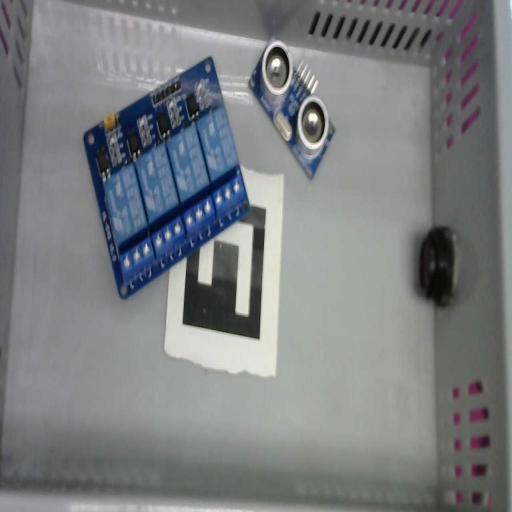QR: (163, 166, 284, 378)
relay_module: (82, 55, 250, 301)
ultrasonic_hc-sr04: (248, 38, 335, 180)
